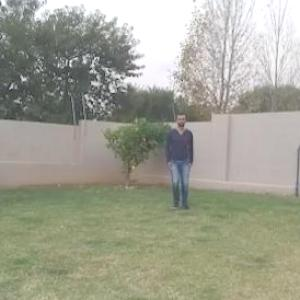follow: (167, 111, 194, 214)
